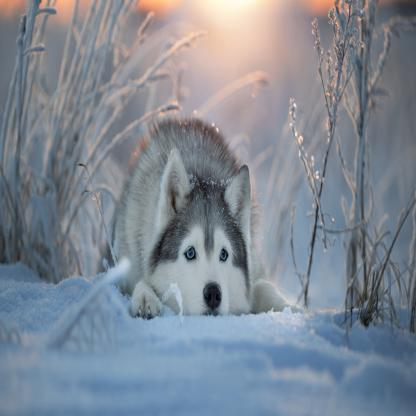husky: (112, 106, 302, 316)
